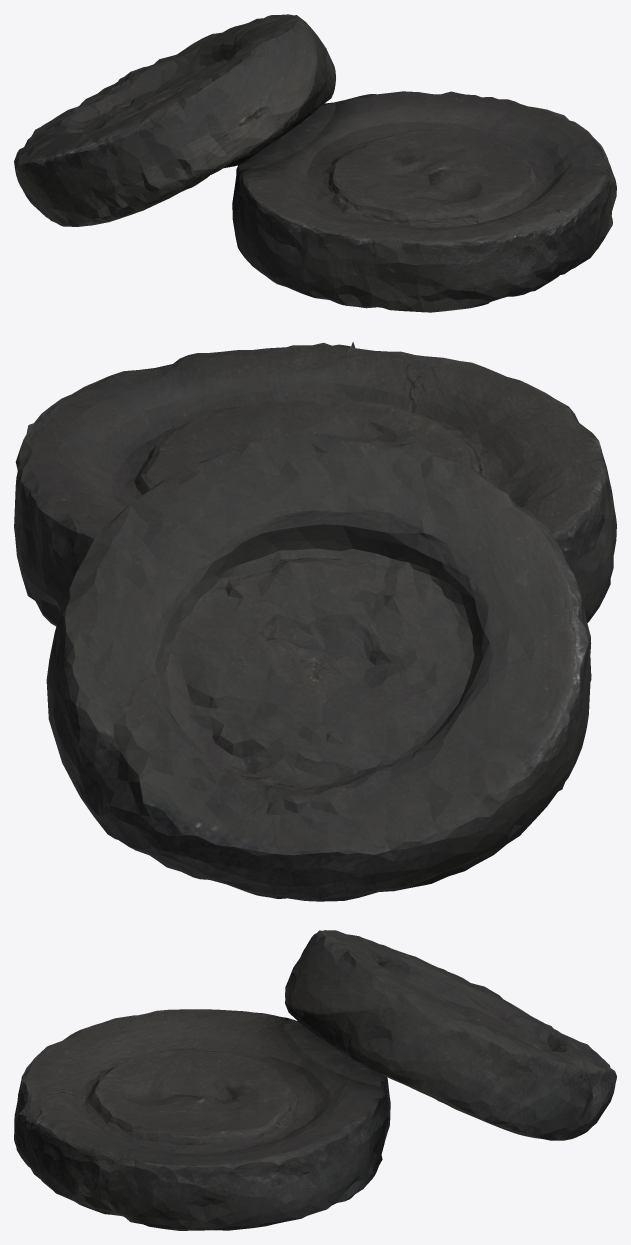
The model's file is Charcoal_Discs_0612180835_texture.fbx.
3 renders of one model, top to bottom at view 1: azimuth 30°, elevation 25°; view 2: azimuth 150°, elevation 25°; view 3: azimuth 270°, elevation 25°, orthographic. The views are drawn at different scales.
Visible parts, largest first — view 1: temp; view 2: temp; view 3: temp.
Part boxes in pixels (x1,y1,x2,y2): temp: [14, 14, 616, 312]; temp: [14, 342, 616, 901]; temp: [14, 930, 616, 1230].
Bounding box in the file's own units: 164 × 69.78 × 195.
Materials: 1 (1 with a texture image).
